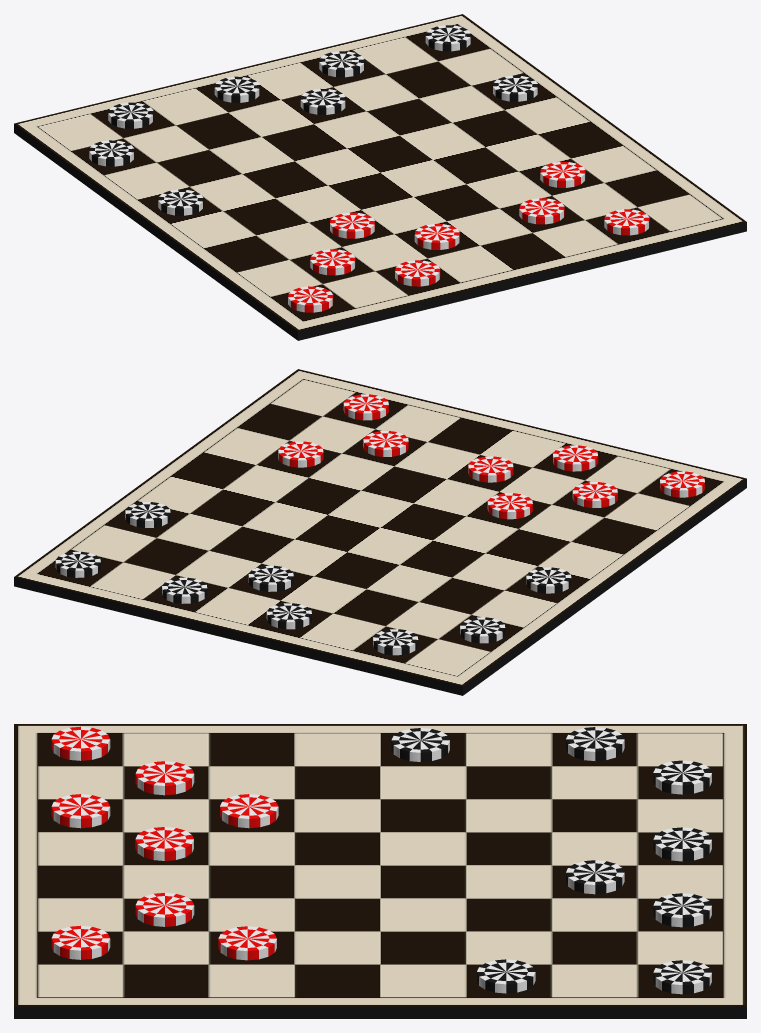
File: CheckersBoard.fbx
3 renders of one model, top to bottom at view 1: azimuth 30°, elevation 25°; view 2: azimuth 150°, elevation 25°; view 3: azimuth 270°, elevation 25°, orthographic. The views are drawn at different scales.
Visible parts, largest first — view 1: Cube, Cylinder_3, Cylinder_5, Cylinder_1, Cylinder_14, Cylinder_11, Cylinder_10, Cylinder_8, Cylinder_4, Cylinder_12, Cylinder_7, Cylinder (+5 smaller); view 2: Cube, Cylinder_10, Cylinder_4, Cylinder_15, Cylinder_9, Cylinder_8, Cylinder_5, Cylinder_13, Cylinder_1, Cylinder_2, Cylinder_6, Cylinder_11 (+5 smaller); view 3: Cube, Cylinder_10, Cylinder_12, Cylinder_11, Cylinder_8, Cylinder_14, Cylinder_5, Cylinder_9, Cylinder_15, Cylinder_7, Cylinder_6, Cylinder_1 (+5 smaller).
Part boxes in pixels (left/top/right/bottom): Cube: left=14, top=14, right=746, bottom=340; Cylinder_3: left=108, top=102, right=153, bottom=128; Cylinder_5: left=158, top=189, right=203, bottom=215; Cylinder_1: left=319, top=51, right=364, bottom=77; Cylinder_14: left=519, top=198, right=564, bottom=224; Cylinder_11: left=288, top=286, right=333, bottom=312; Cylinder_10: left=395, top=260, right=440, bottom=286; Cylinder_8: left=604, top=209, right=649, bottom=235; Cylinder_4: left=89, top=140, right=134, bottom=166; Cylinder_12: left=310, top=249, right=355, bottom=275; Cylinder_7: left=493, top=75, right=538, bottom=101; Cylinder: left=425, top=25, right=470, bottom=51; Cube: left=14, top=369, right=746, bottom=695; Cylinder_10: left=553, top=445, right=598, bottom=471; Cylinder_4: left=460, top=617, right=505, bottom=643; Cylinder_15: left=278, top=441, right=323, bottom=467; Cylinder_9: left=468, top=456, right=513, bottom=482; Cylinder_8: left=343, top=394, right=388, bottom=420; Cylinder_5: left=526, top=567, right=571, bottom=593; Cylinder_13: left=487, top=493, right=532, bottom=519; Cylinder_1: left=162, top=577, right=207, bottom=603; Cylinder_2: left=266, top=603, right=311, bottom=629; Cylinder_6: left=248, top=565, right=293, bottom=591; Cylinder_11: left=660, top=471, right=704, bottom=497; Cube: left=14, top=724, right=746, bottom=1018; Cylinder_10: left=51, top=794, right=110, bottom=828; Cylinder_12: left=135, top=761, right=194, bottom=795; Cylinder_11: left=51, top=726, right=110, bottom=760; Cylinder_8: left=51, top=925, right=110, bottom=959; Cylinder_14: left=135, top=893, right=194, bottom=926; Cylinder_5: left=391, top=728, right=449, bottom=761; Cylinder_9: left=135, top=827, right=193, bottom=860; Cylinder_15: left=218, top=926, right=276, bottom=960; Cylinder_7: left=477, top=959, right=535, bottom=993; Cylinder_6: left=566, top=860, right=624, bottom=894; Cylinder_1: left=653, top=893, right=711, bottom=927.
Size of the model in its own units: 922 by 32.5 by 1011.
Materials: 4 (1 with a texture image).
